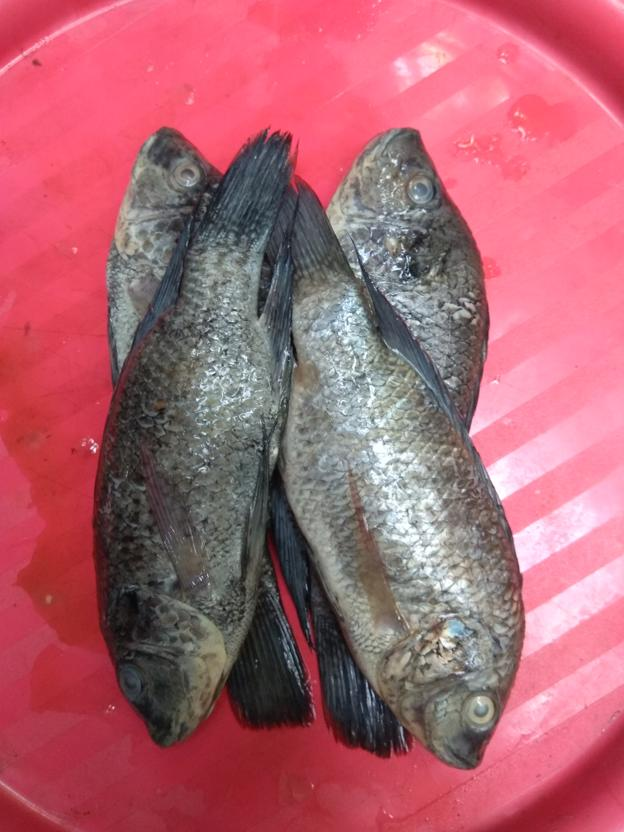Fish head: (96, 582, 235, 751), (329, 126, 463, 293), (375, 616, 513, 772), (107, 126, 227, 274)
Fish tail: (322, 594, 417, 760), (222, 574, 318, 732), (196, 126, 299, 249), (291, 173, 359, 300)
